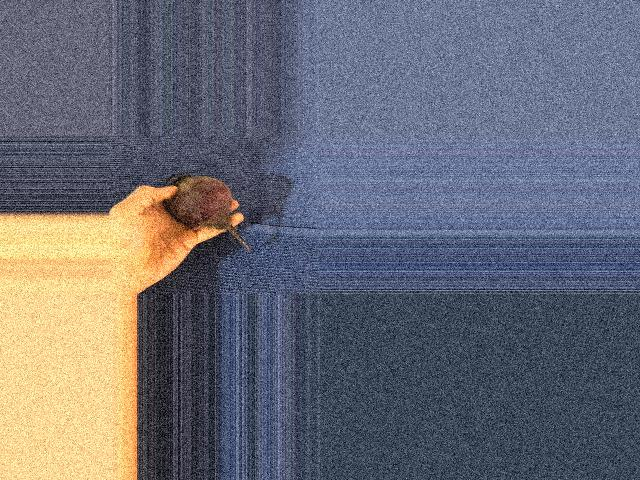beet: (164, 173, 250, 251)
